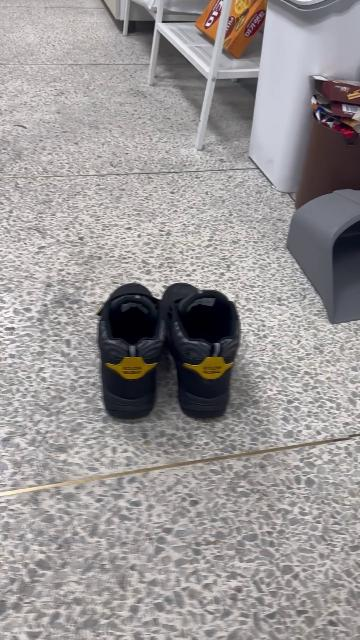shoe_worn: (159, 279, 246, 421), (97, 282, 168, 422)
